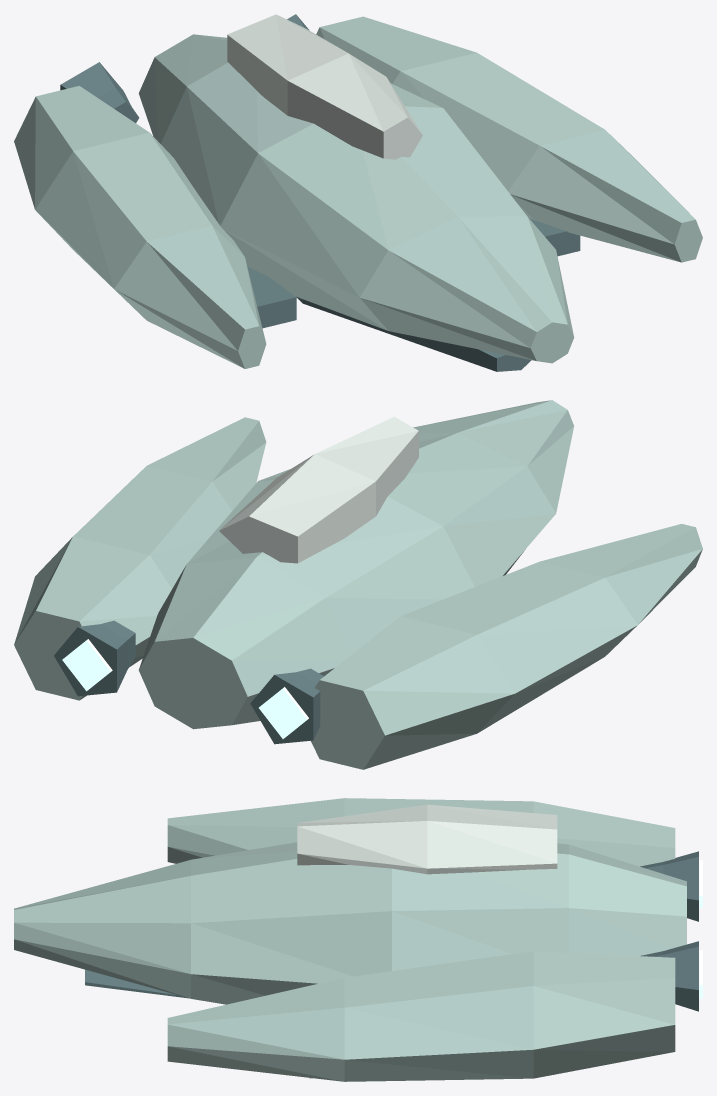
The picture shows the model from 3 angles, top to bottom: view 1: azimuth 30°, elevation 25°; view 2: azimuth 150°, elevation 25°; view 3: azimuth 270°, elevation 25°; orthographic projection. The views are drawn at different scales.
Size of the model in its own units: 9.6 by 3.77 by 11.67.
